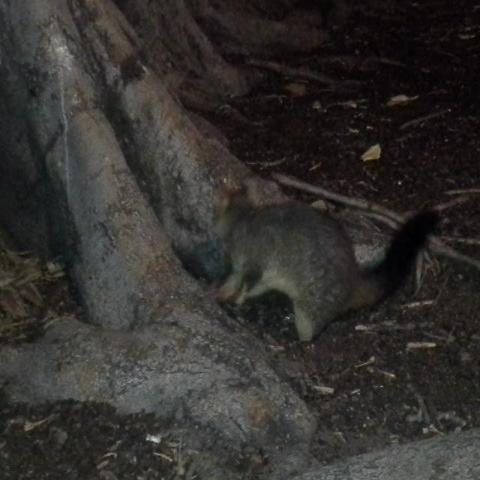small_animal: (192, 185, 442, 345)
